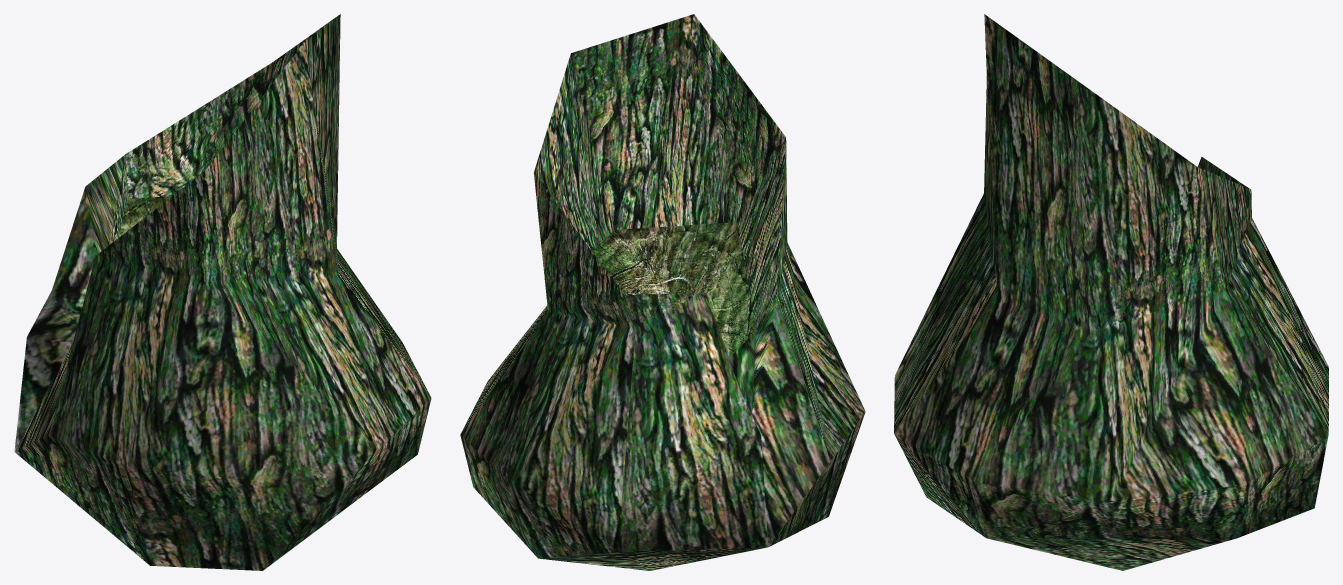
Rendered from frst_conf_redwoodstump_sm_l2.fbx.
3 renders of one model, left to right at view 1: azimuth 30°, elevation 25°; view 2: azimuth 150°, elevation 25°; view 3: azimuth 270°, elevation 25°, orthographic. The views are drawn at different scales.
Visible parts, largest first — view 1: mesh_node; view 2: mesh_node; view 3: mesh_node.
Boxes of the visible parts, bbox=[...] form: mesh_node: bbox=[14, 14, 431, 570]; mesh_node: bbox=[460, 14, 865, 570]; mesh_node: bbox=[894, 14, 1328, 570].
Bounding box in the file's own units: 4.08 × 5.85 × 4.07.
